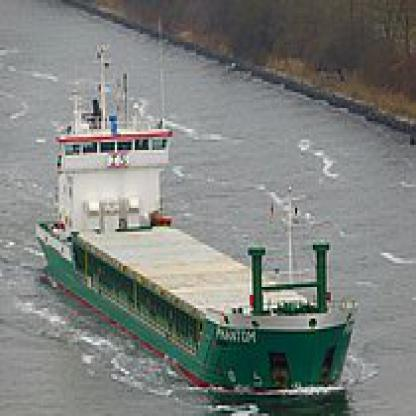Container Ship: (33, 41, 358, 406)
